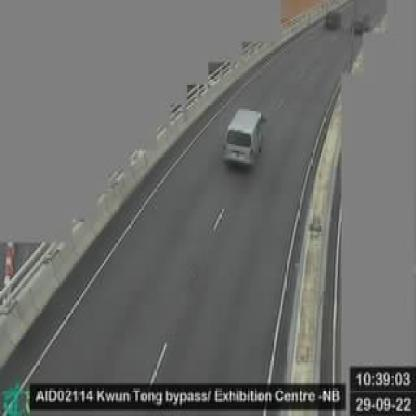Car: (220, 102, 264, 179), (318, 4, 342, 31)
